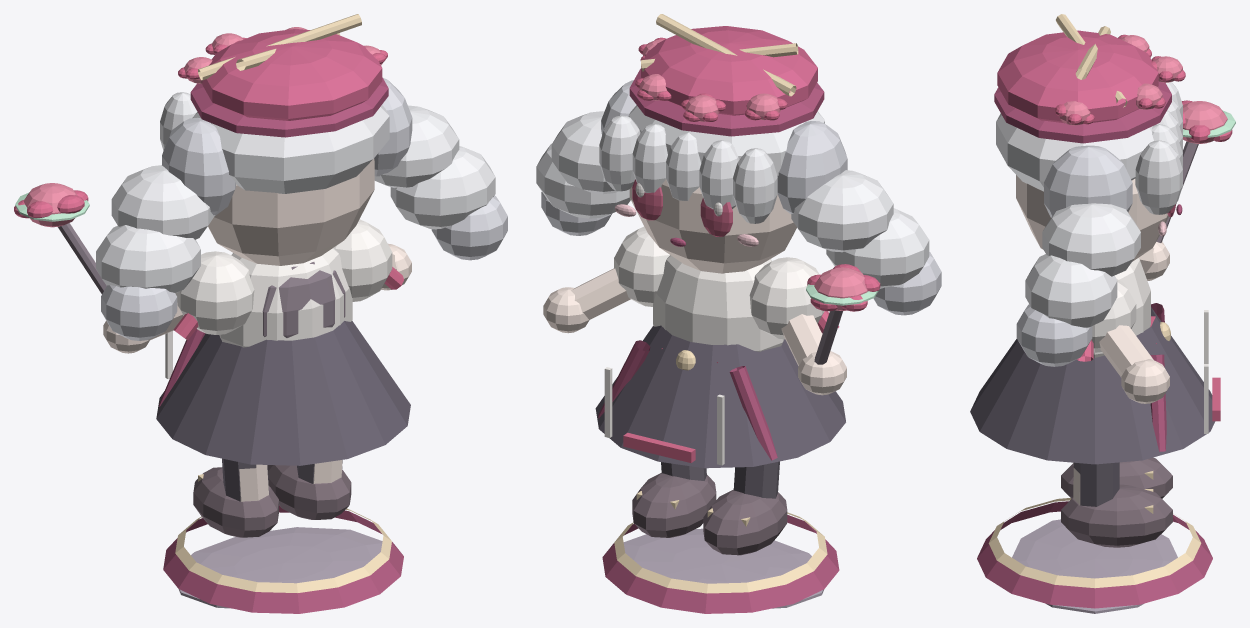
Rendered from suiji_chibi.glb.
3 views of the same model, side by side, from view 1: azimuth 30°, elevation 25°; view 2: azimuth 150°, elevation 25°; view 3: azimuth 270°, elevation 25° (orthographic). The views are drawn at different scales.
Visible parts, largest first — view 1: suiji_chibi; view 2: suiji_chibi; view 3: suiji_chibi.
Part boxes in pixels (bbox=[...]): suiji_chibi: bbox=[14, 14, 507, 613]; suiji_chibi: bbox=[536, 14, 941, 613]; suiji_chibi: bbox=[970, 14, 1235, 613].
Bounding box in the file's own units: 1.36 × 1.74 × 0.7872.
